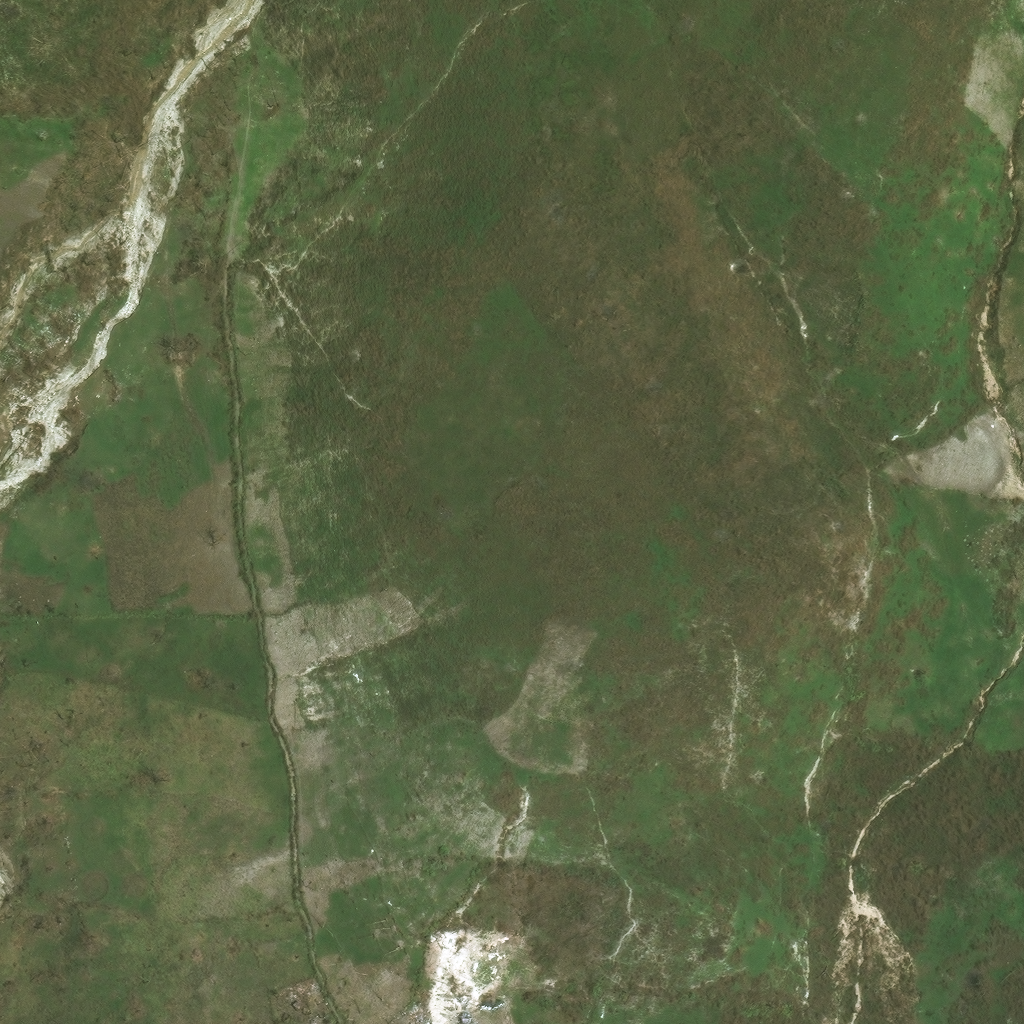destroyed: (421, 1007, 437, 1023), (462, 1007, 479, 1021), (426, 987, 438, 996)
